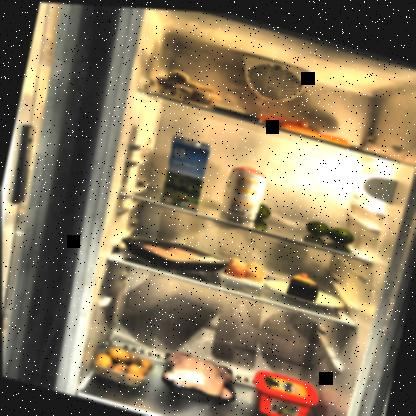butter: (244, 363, 323, 415)
carrot: (247, 102, 353, 143)
cheese: (283, 264, 322, 300)
chicken: (152, 340, 246, 413), (114, 225, 232, 283)
chocolate: (211, 101, 263, 121)
eggs: (221, 251, 269, 285)
lime: (246, 196, 357, 243)
milk: (156, 130, 211, 210)
mushrooms: (154, 62, 223, 108)
potato: (90, 339, 155, 389)
